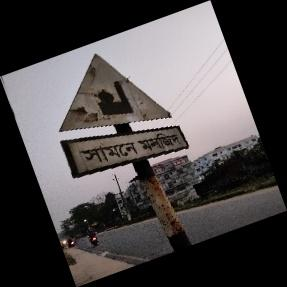Mosque in front: (56, 50, 193, 177)
